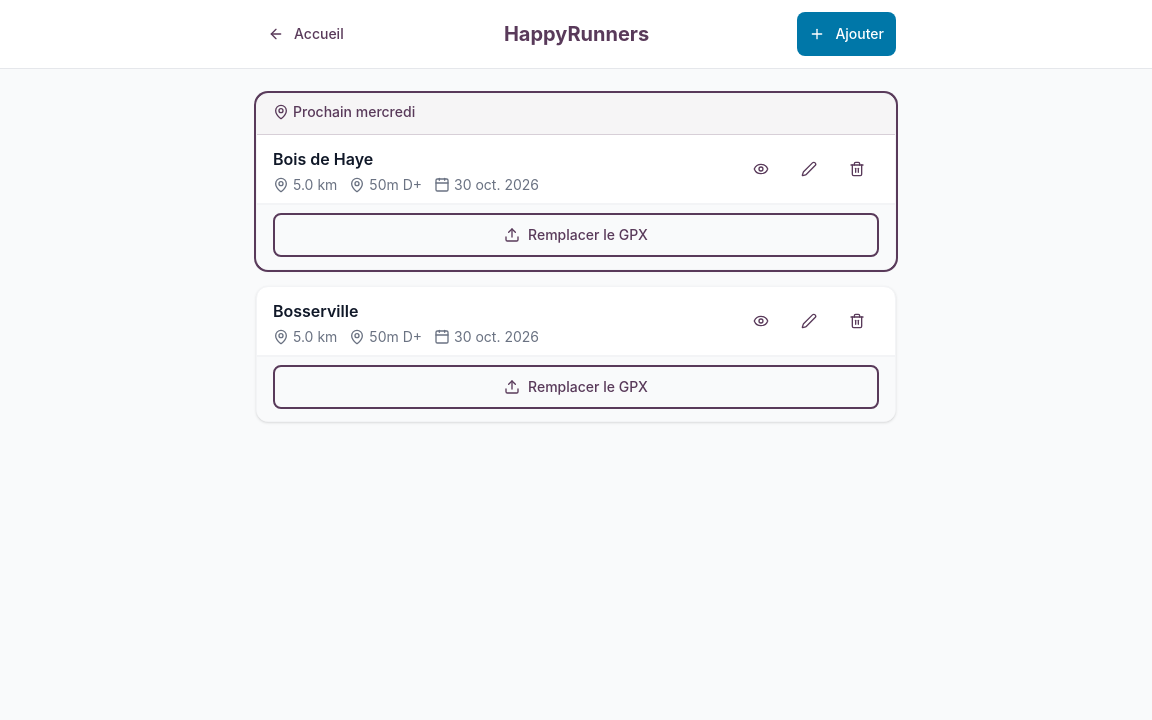
Test: ParcoursList — suppression › « Annuler » ne supprime rien
Expected: the heading "Bois de Haye" is shown, x1=273 y1=149 x2=373 y2=169
Click the button named "Supprimer" in the row of "Bois de Haye" at (857, 169), box x1=835 y1=147 x2=879 y2=191
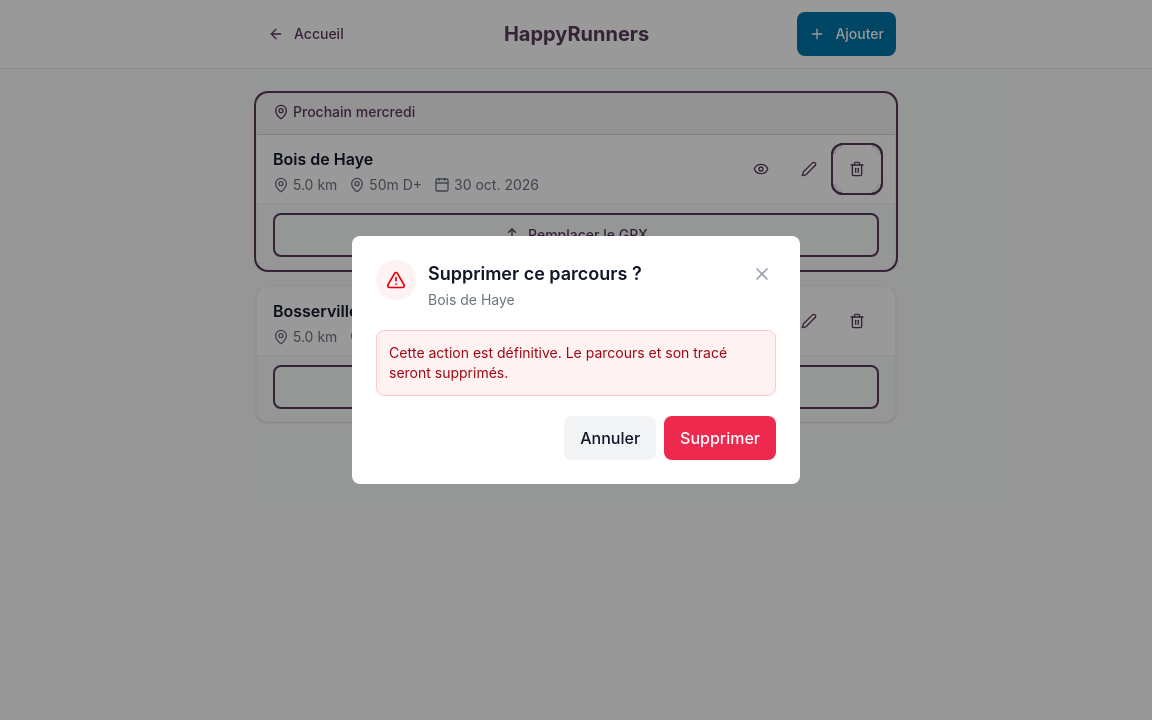
Now the dialog is shown
Click the button "Annuler" at (610, 438), box x1=564 y1=416 x2=656 y2=460
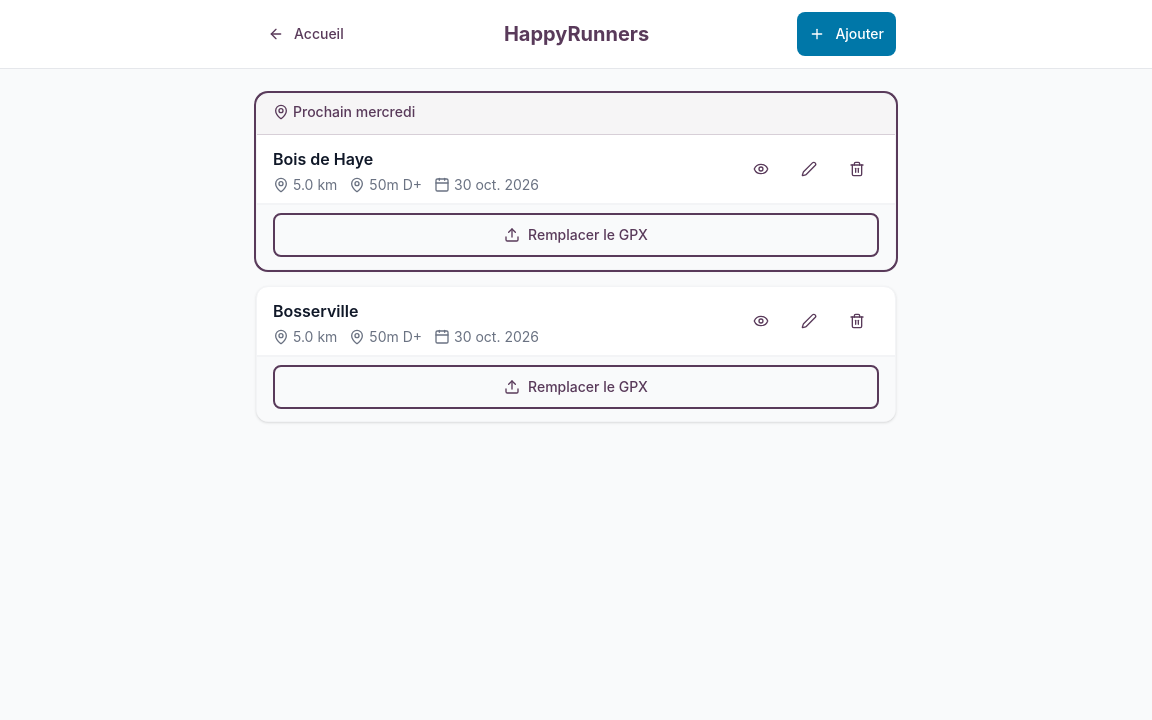
Expected: the heading "Bois de Haye" is shown, x1=273 y1=149 x2=373 y2=169
Now the dialog is gone
